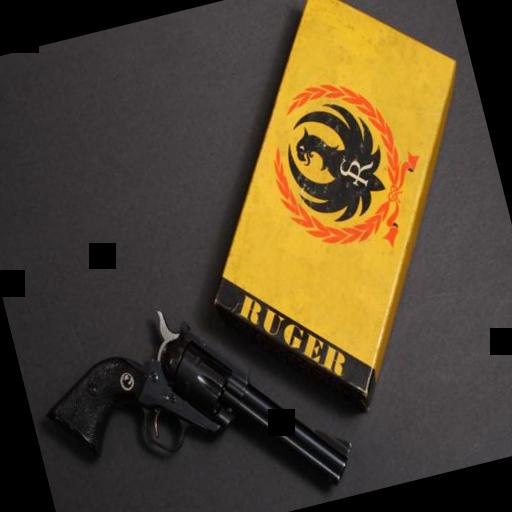Handgun: (23, 269, 361, 512)
